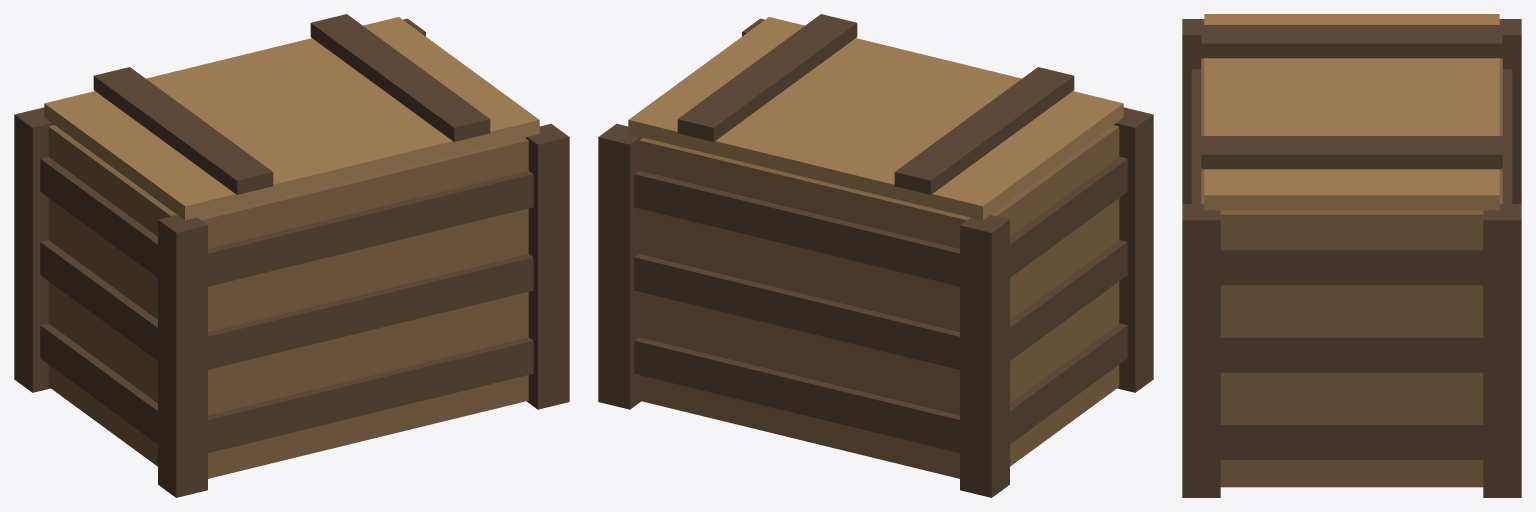
The model's file is decorativos-cajon-a.glb.
3 renders of one model, left to right at view 1: azimuth 30°, elevation 25°; view 2: azimuth 150°, elevation 25°; view 3: azimuth 270°, elevation 25°, orthographic. The views are drawn at different scales.
Visible parts, largest first — view 1: cajon_a_MaderaOscura, cajon_a_Madera, cajon_a_MaderaClara; view 2: cajon_a_MaderaOscura, cajon_a_Madera, cajon_a_MaderaClara; view 3: cajon_a_MaderaOscura, cajon_a_Madera, cajon_a_MaderaClara.
Boxes of the visible parts, x1,y1,x2,y2 form: cajon_a_MaderaOscura: [14, 14, 569, 497]; cajon_a_Madera: [48, 125, 528, 478]; cajon_a_MaderaClara: [44, 17, 539, 220]; cajon_a_MaderaOscura: [598, 14, 1153, 497]; cajon_a_Madera: [639, 125, 1119, 478]; cajon_a_MaderaClara: [628, 17, 1123, 220]; cajon_a_MaderaOscura: [1182, 19, 1521, 497]; cajon_a_Madera: [1201, 58, 1502, 487]; cajon_a_MaderaClara: [1204, 14, 1499, 210].
Size of the model in its own units: 0.87 by 0.62 by 0.62.
